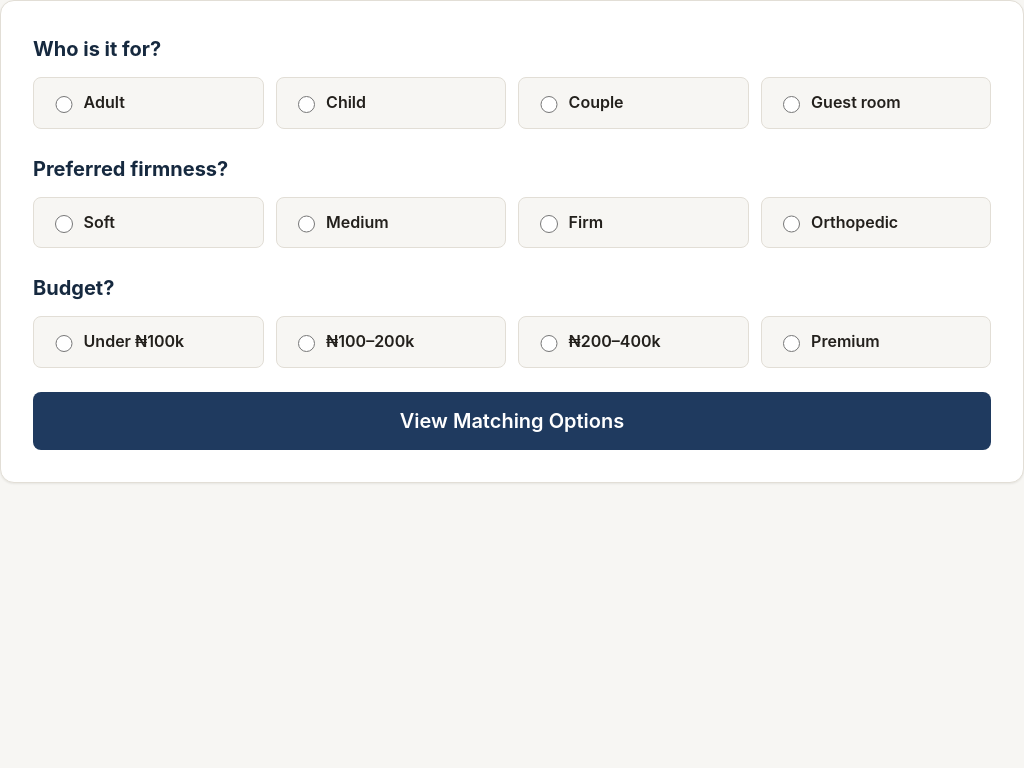
Test case: RecommendationForm › asks for all answers before submitting
Click the button "View Matching Options": (512, 421) top-left (33, 392), bottom-right (991, 450)
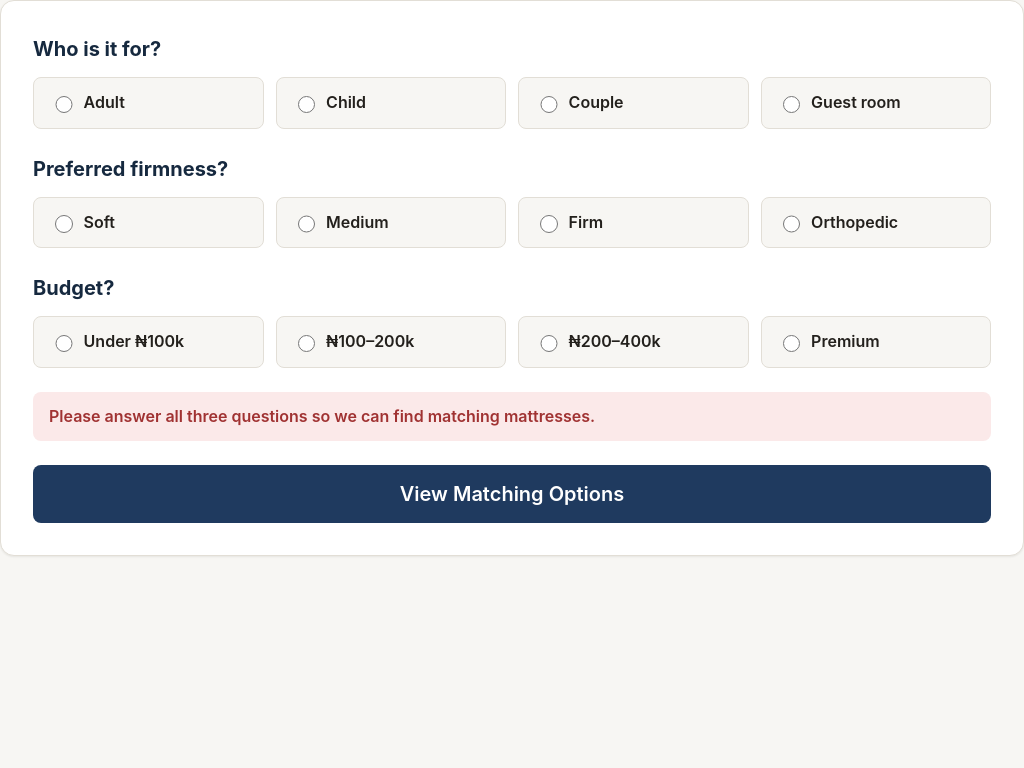
Expected: the message shows "answer all three questions", top-left (49, 406), bottom-right (595, 426)
